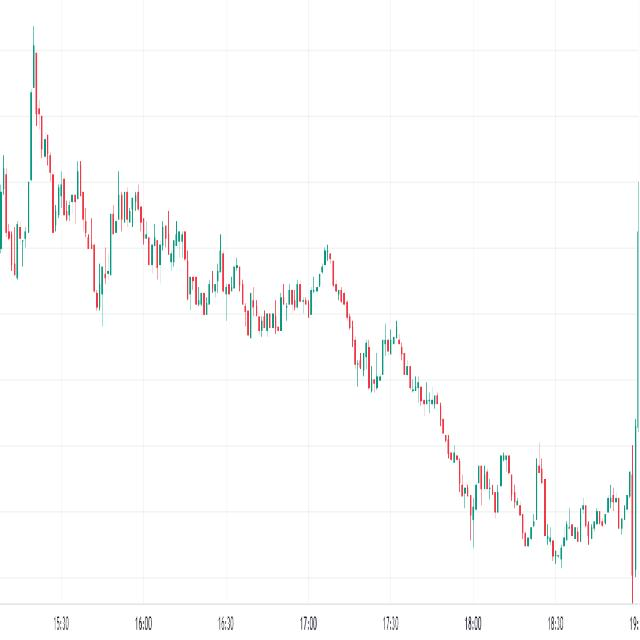Ascending-Triangle: (19, 25, 311, 339)
